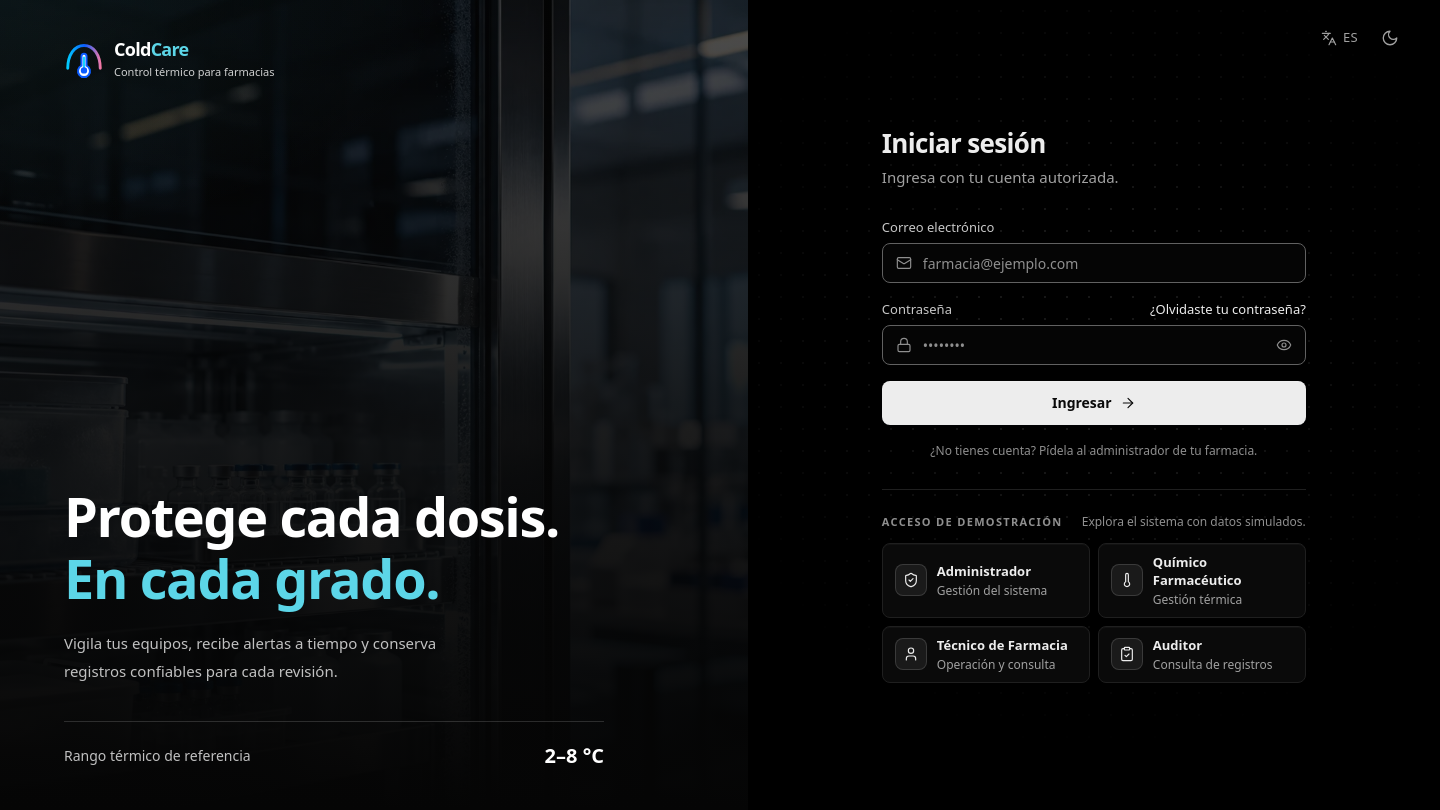
LoginPage › muestra error genérico para credenciales incorrectas
Type "farmaceutico@upc.pe" into the field labelled "Correo electrónico". click: coordinates (1094, 263)
box: [882,243,1306,283]
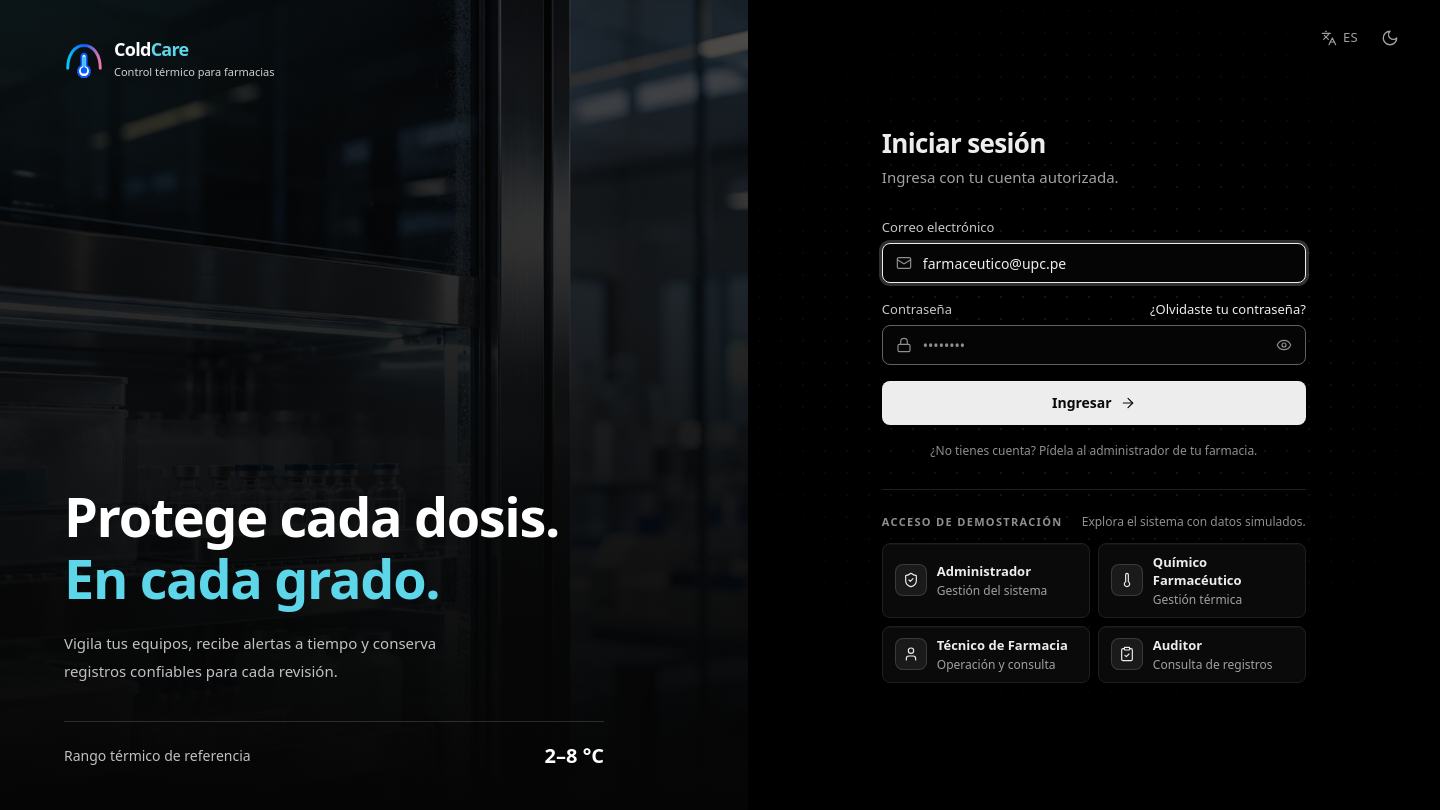
Type "incorrecta" into the password field labelled "Contraseña". click: coordinates (1094, 345)
box: [882,325,1306,365]
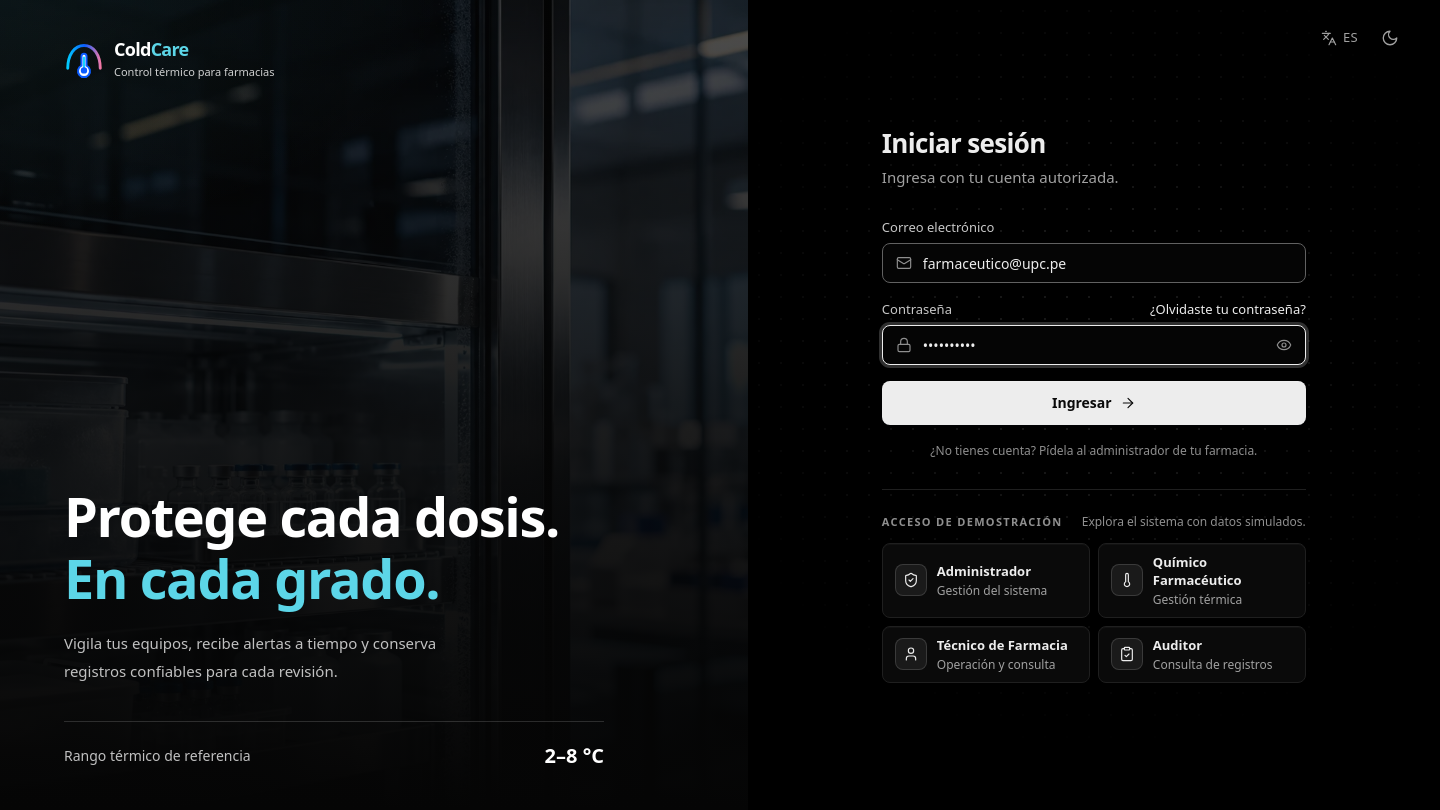
Click the button "Ingresar". click: coordinates (1094, 403)
box: [882,381,1306,425]
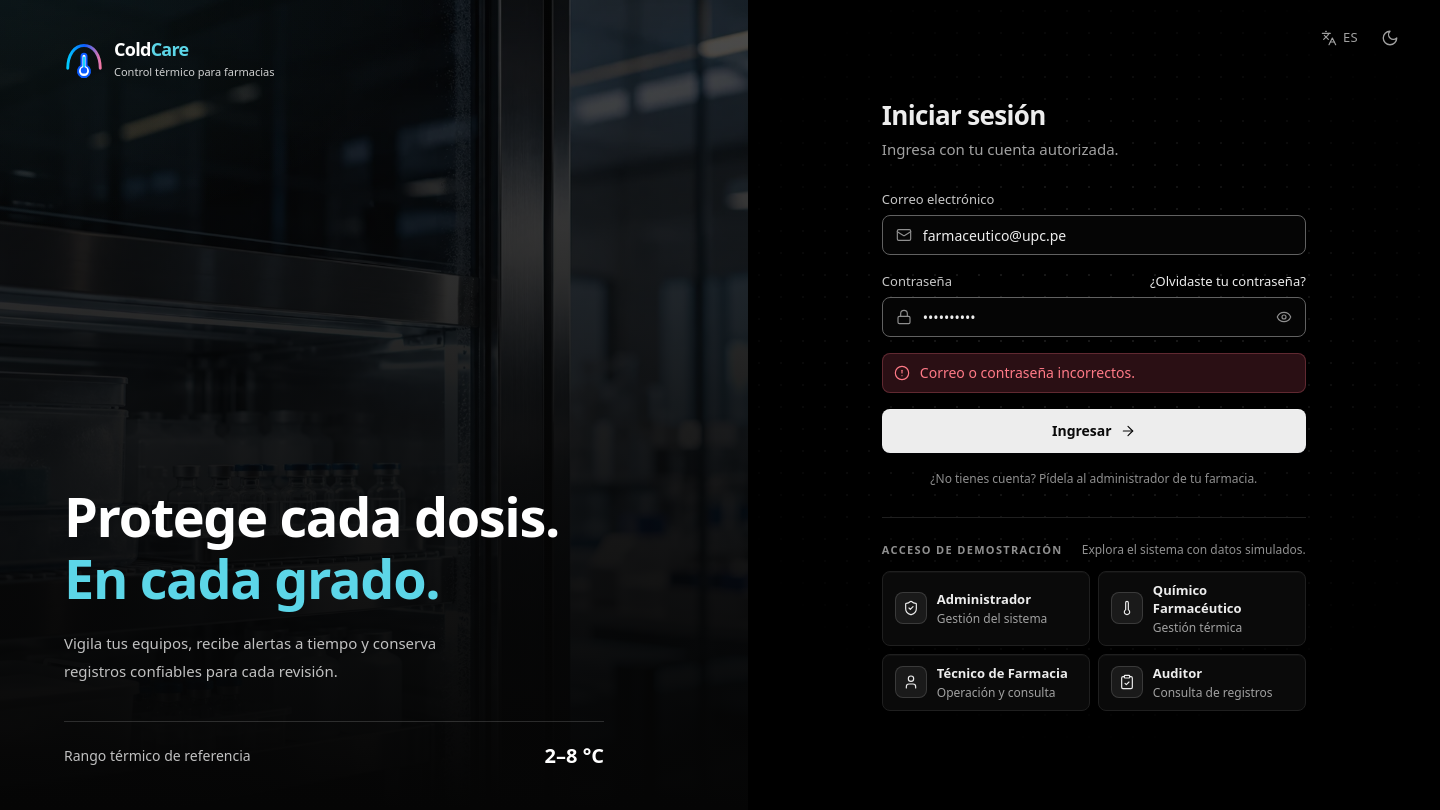
Result: the message reads "Correo o contraseña incorrectos." at [920,363,1135,382]
